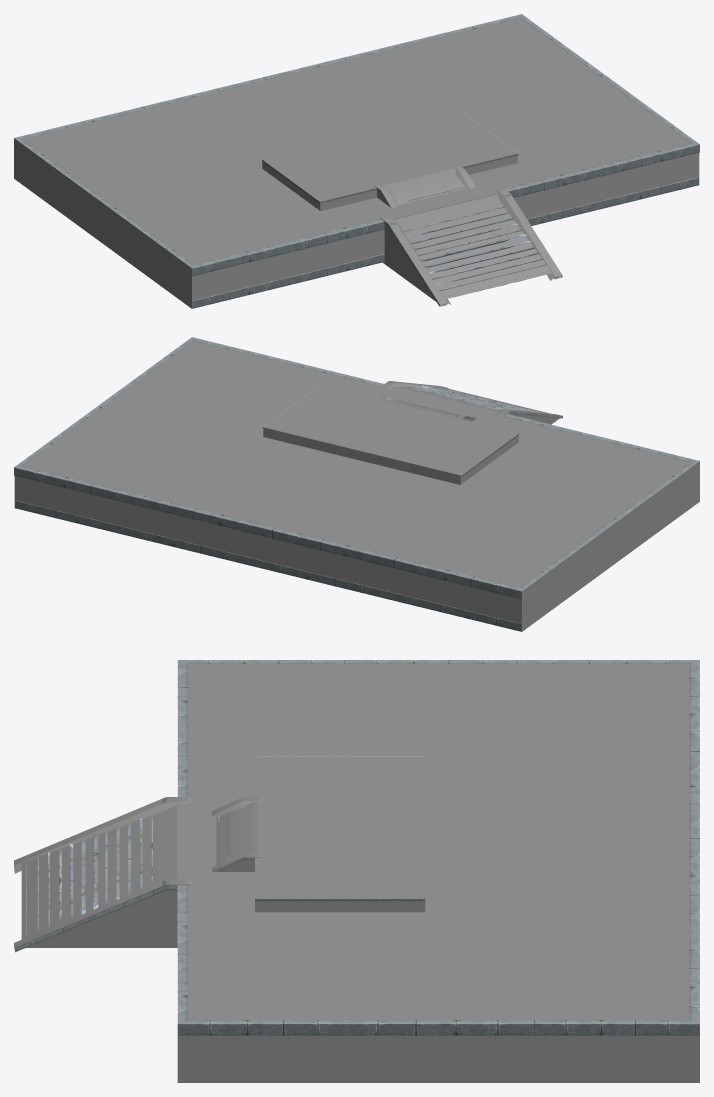
The model's file is Scene_Build_TianShan_ZhuDian_3.FBX.
3 renders of one model, top to bottom at view 1: azimuth 30°, elevation 25°; view 2: azimuth 150°, elevation 25°; view 3: azimuth 270°, elevation 25°, orthographic. The views are drawn at different scales.
Visible parts, largest first — view 1: Scene_Build_TianShan_ZhuDian_3_Xzm, Scene_Build_TianShan_ZhuDian_3b, Scene_Build_TianShan_ZhuDian_3a; view 2: Scene_Build_TianShan_ZhuDian_3_Xzm, Scene_Build_TianShan_ZhuDian_3b, Scene_Build_TianShan_ZhuDian_3a; view 3: Scene_Build_TianShan_ZhuDian_3_Xzm, Scene_Build_TianShan_ZhuDian_3b, Scene_Build_TianShan_ZhuDian_3a.
Boxes of the visible parts, x1,y1,x2,y2 form: Scene_Build_TianShan_ZhuDian_3_Xzm: (14,18,699,308); Scene_Build_TianShan_ZhuDian_3b: (14,14,699,308); Scene_Build_TianShan_ZhuDian_3a: (397,187,550,298); Scene_Build_TianShan_ZhuDian_3_Xzm: (14,341,699,631); Scene_Build_TianShan_ZhuDian_3b: (14,337,699,631); Scene_Build_TianShan_ZhuDian_3a: (398,386,549,414); Scene_Build_TianShan_ZhuDian_3_Xzm: (14,663,699,1082); Scene_Build_TianShan_ZhuDian_3b: (14,660,699,1035); Scene_Build_TianShan_ZhuDian_3a: (26,813,227,937).
Size of the model in its own units: 5268 by 556 by 4200.
